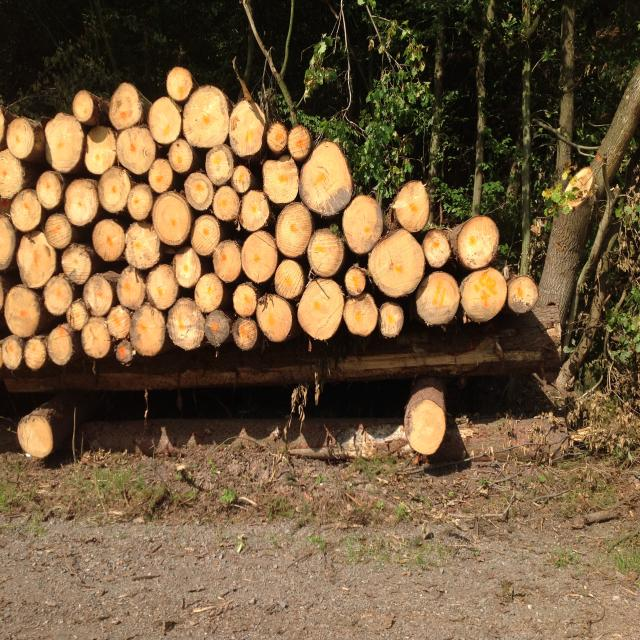wood-log: (299, 141, 354, 218), (368, 229, 425, 298), (182, 85, 229, 149), (298, 278, 344, 340), (460, 268, 508, 323), (342, 196, 384, 254), (415, 271, 460, 325), (45, 112, 85, 172), (16, 231, 58, 288), (151, 191, 194, 246), (456, 216, 499, 271), (405, 400, 446, 455), (275, 202, 314, 258), (229, 99, 266, 157), (116, 126, 158, 176), (166, 298, 205, 350), (241, 231, 279, 283), (392, 181, 429, 233), (4, 285, 40, 338), (130, 303, 166, 356), (308, 229, 345, 278), (262, 156, 299, 204), (125, 221, 161, 269), (256, 295, 291, 343), (148, 97, 182, 146), (65, 179, 99, 226), (342, 293, 379, 336), (18, 415, 54, 459), (109, 82, 141, 131), (98, 167, 132, 213), (146, 264, 179, 310), (85, 126, 116, 174), (10, 189, 42, 233), (92, 219, 125, 261), (116, 266, 146, 311), (212, 239, 242, 283), (81, 316, 112, 358), (239, 191, 270, 233), (61, 243, 91, 285), (82, 274, 112, 316), (0, 149, 25, 199), (275, 259, 305, 300), (191, 214, 220, 256), (205, 144, 234, 186), (184, 172, 215, 211), (44, 274, 72, 316), (6, 117, 34, 159), (173, 248, 202, 288), (508, 276, 539, 313), (422, 229, 451, 268), (195, 274, 222, 313), (128, 182, 154, 221), (36, 171, 62, 209), (212, 186, 240, 221), (45, 213, 72, 249), (48, 326, 72, 365), (379, 301, 404, 338), (166, 67, 192, 102), (205, 310, 230, 346), (0, 214, 16, 270), (106, 305, 131, 340), (149, 159, 174, 194), (232, 318, 259, 350), (232, 283, 258, 316), (169, 139, 194, 172), (24, 336, 48, 370), (288, 126, 311, 159), (1, 336, 22, 370), (72, 90, 94, 122), (66, 301, 89, 331), (266, 122, 288, 151), (345, 266, 366, 296), (231, 166, 252, 194), (115, 340, 136, 365)
